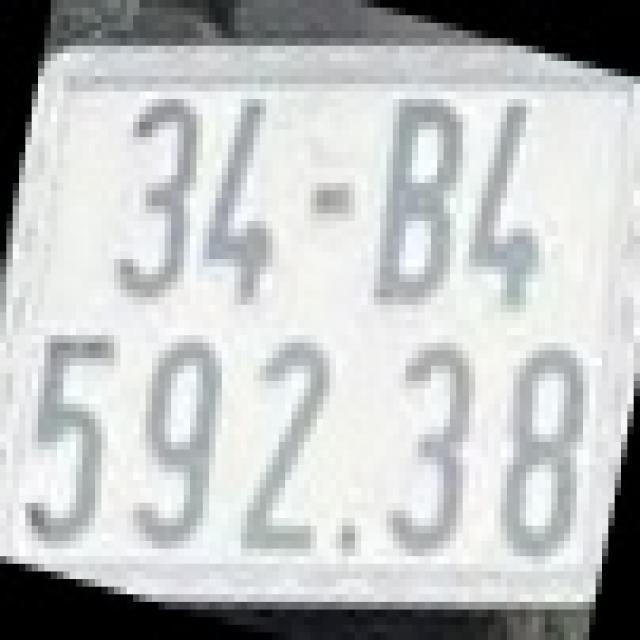2: (240, 335, 330, 556)
3: (387, 335, 475, 556), (114, 91, 196, 298)
4: (203, 91, 279, 305), (469, 99, 545, 312)
5: (25, 328, 114, 541)
8: (500, 343, 590, 556)
9: (133, 336, 222, 548)
B: (374, 91, 462, 305)
